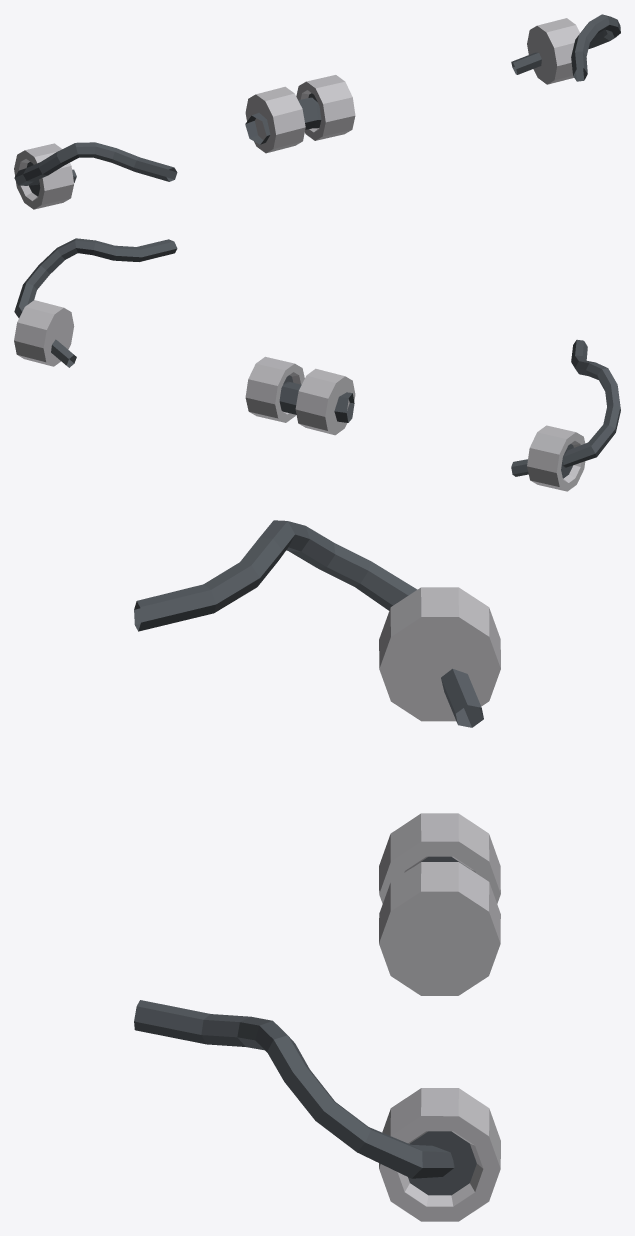
The model's file is Dropship_01_Cables.fbx.
The picture shows the model from 3 angles, top to bottom: view 1: azimuth 30°, elevation 25°; view 2: azimuth 150°, elevation 25°; view 3: azimuth 270°, elevation 25°; orthographic projection. The views are drawn at different scales.
Parts seen in each view (by area): view 1: Dropship_01_Cables; view 2: Dropship_01_Cables; view 3: Dropship_01_Cables.
Part boxes in pixels (x1=…): Dropship_01_Cables: x1=14, y1=14, x2=620, y2=209; Dropship_01_Cables: x1=14, y1=238, x2=620, y2=491; Dropship_01_Cables: x1=134, y1=520, x2=500, y2=1221.
Size of the model in its own units: 952 by 138 by 255.
Materials: 1 (1 with a texture image).
